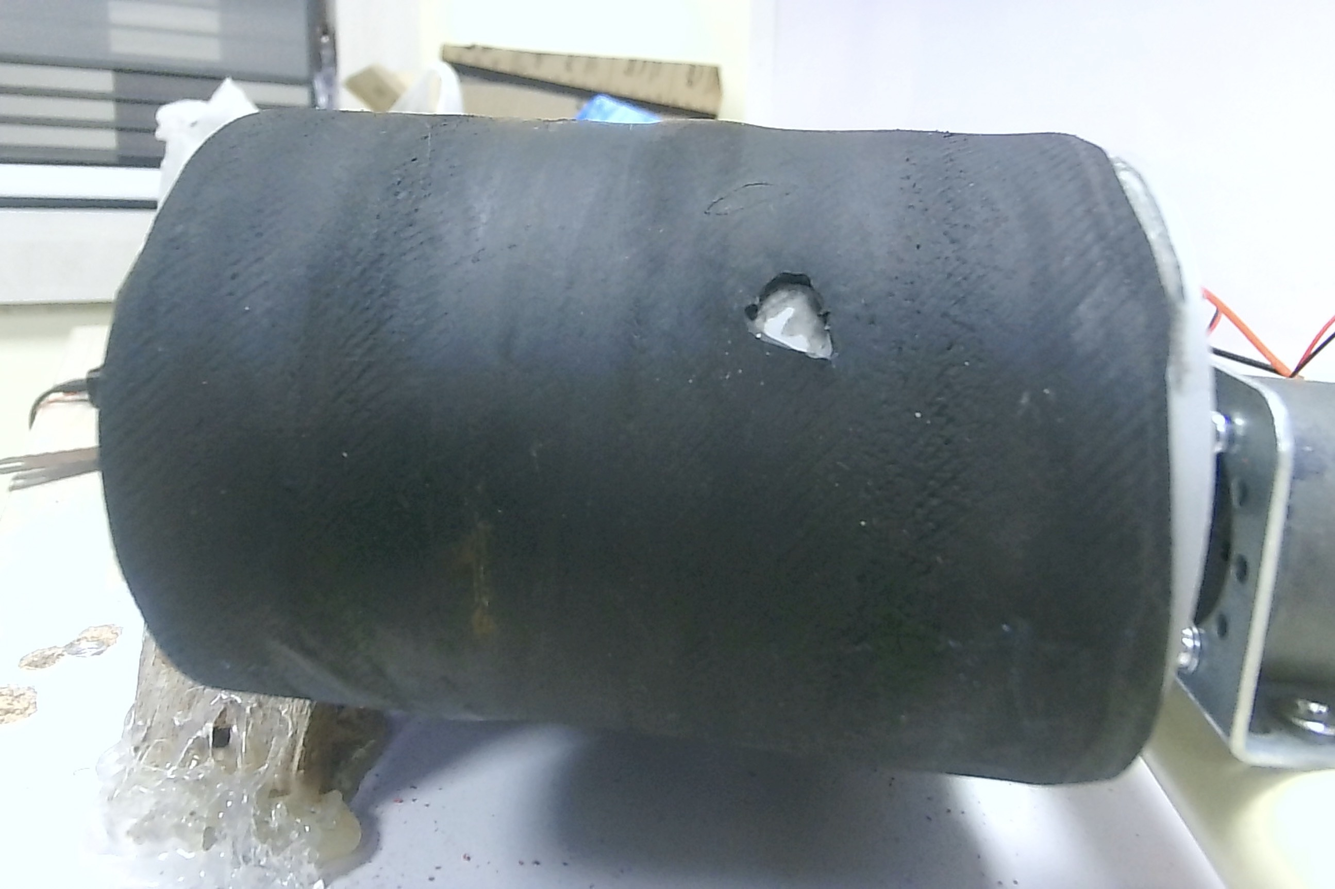hole: (745, 274, 848, 373)
